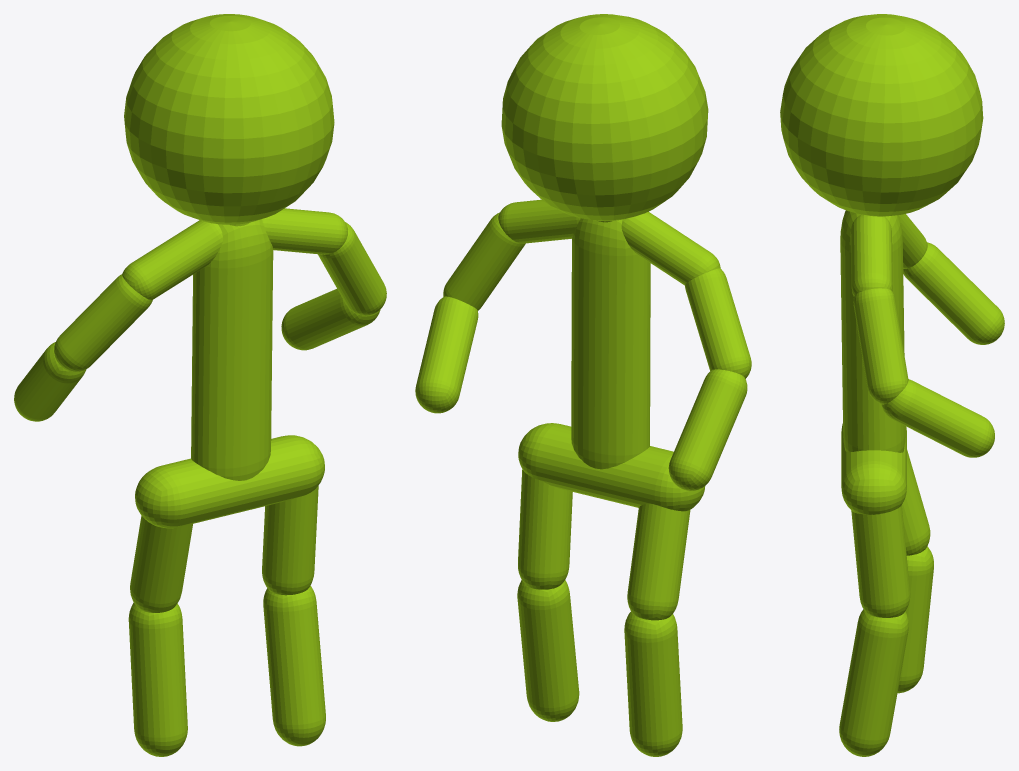
File: Stickman_000020.obj
3 views of the same model, side by side, from view 1: azimuth 30°, elevation 25°; view 2: azimuth 150°, elevation 25°; view 3: azimuth 270°, elevation 25° (orthographic). The views are drawn at different scales.
Visible parts, largest first — view 1: Head_Sphere.001, Body_Roundcube.002, Hip_Roundcube.005, LowerLegLeft_Roundcube.013, LowerLegRight_Roundcube.011, UpperLegLeft_Roundcube.012, UpperArmRight_Roundcube.015, UpperLegRight_Roundcube.010, ShoulderRight_Roundcube.014, LowerArmLeft_Roundcube.019, UpperArmLeft_Roundcube.018, ShoulderLeft_Roundcube.017 (+1 smaller); view 2: Head_Sphere.001, Body_Roundcube.002, Hip_Roundcube.005, LowerLegRight_Roundcube.011, LowerLegLeft_Roundcube.013, UpperLegRight_Roundcube.010, LowerArmRight_Roundcube.016, UpperLegLeft_Roundcube.012, LowerArmLeft_Roundcube.019, UpperArmRight_Roundcube.015, ShoulderRight_Roundcube.014, UpperArmLeft_Roundcube.018 (+1 smaller); view 3: Head_Sphere.001, LowerLegLeft_Roundcube.013, Body_Roundcube.002, UpperLegLeft_Roundcube.012, LowerArmRight_Roundcube.016, LowerArmLeft_Roundcube.019, UpperArmLeft_Roundcube.018, Hip_Roundcube.005, LowerLegRight_Roundcube.011, ShoulderLeft_Roundcube.017, UpperLegRight_Roundcube.010, UpperArmRight_Roundcube.015.
Boxes of the visible parts, box(x1,y1,x2,y2) form: Head_Sphere.001: box(124, 14, 334, 224); Body_Roundcube.002: box(191, 219, 273, 480); Hip_Roundcube.005: box(135, 435, 324, 528); LowerLegLeft_Roundcube.013: box(263, 586, 325, 746); LowerLegRight_Roundcube.011: box(128, 602, 187, 756); UpperLegLeft_Roundcube.012: box(262, 486, 318, 595); UpperArmRight_Roundcube.015: box(54, 274, 152, 372); UpperLegRight_Roundcube.010: box(130, 516, 192, 612); ShoulderRight_Roundcube.014: box(122, 220, 222, 299); LowerArmLeft_Roundcube.019: box(281, 289, 380, 350); UpperArmLeft_Roundcube.018: box(318, 222, 386, 315); ShoulderLeft_Roundcube.017: box(262, 208, 347, 254); Head_Sphere.001: box(501, 14, 708, 221); Body_Roundcube.002: box(571, 218, 650, 469); Hip_Roundcube.005: box(518, 423, 705, 511); LowerLegRight_Roundcube.011: box(624, 612, 682, 756); LowerLegLeft_Roundcube.013: box(517, 580, 579, 721); UpperLegRight_Roundcube.010: box(627, 503, 690, 620); LowerArmRight_Roundcube.016: box(668, 369, 747, 490); UpperLegLeft_Roundcube.012: box(518, 469, 572, 589); LowerArmLeft_Roundcube.019: box(415, 296, 478, 413); UpperArmRight_Roundcube.015: box(685, 268, 751, 378); ShoulderRight_Roundcube.014: box(621, 211, 720, 285); UpperArmLeft_Roundcube.018: box(443, 212, 525, 310); Head_Sphere.001: box(780, 14, 983, 216); LowerLegLeft_Roundcube.013: box(839, 609, 908, 756); Body_Roundcube.002: box(840, 210, 905, 452); UpperLegLeft_Roundcube.012: box(851, 505, 910, 617); LowerArmRight_Roundcube.016: box(903, 242, 1004, 344); LowerArmLeft_Roundcube.019: box(881, 379, 994, 457); UpperArmLeft_Roundcube.018: box(853, 288, 908, 404); Hip_Roundcube.005: box(841, 423, 906, 514); LowerLegRight_Roundcube.011: box(897, 546, 933, 693); ShoulderLeft_Roundcube.017: box(850, 214, 892, 296); UpperLegRight_Roundcube.010: box(902, 450, 930, 555); UpperArmRight_Roundcube.015: box(898, 214, 927, 268).
Bounding box in the file's own units: 4.94 × 10.66 × 3.09.
